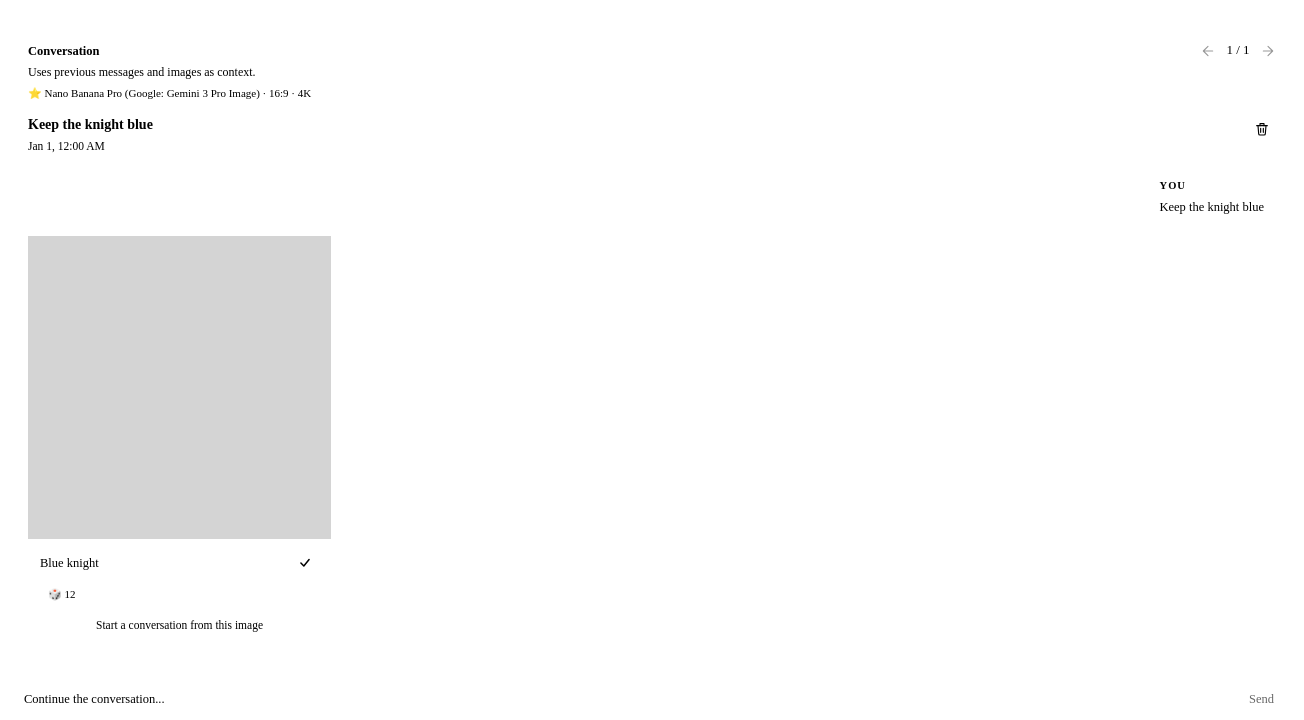
it: the Image tab › offers start-from-image on every image, but not while busy or for a model that takes no reference
(page scrolled)
Click the button "Start a conversation from this image": [180, 625] box [40,614,319,636]
(page scrolled)
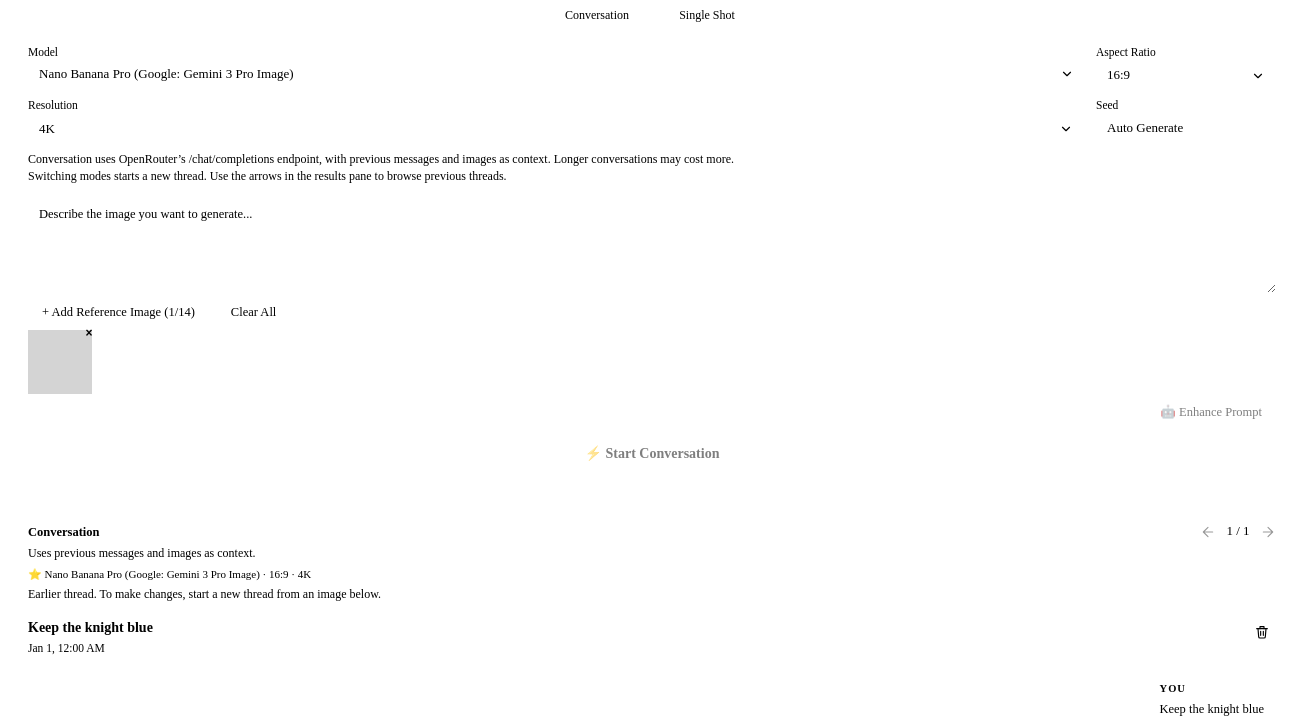
Expected: the text "Earlier thread. To make changes" is shown, [28,588,381,602]
